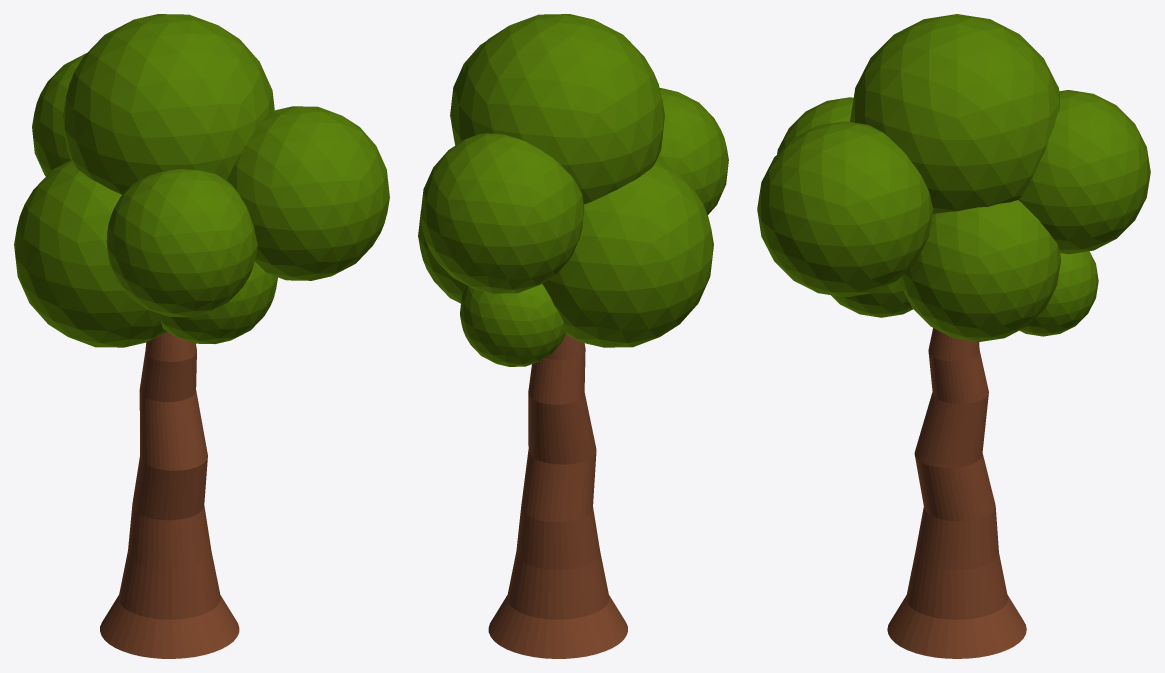
File: Tree_4.glb
3 views of the same model, side by side, from view 1: azimuth 30°, elevation 25°; view 2: azimuth 150°, elevation 25°; view 3: azimuth 270°, elevation 25° (orthographic).
Parts seen in each view (by area): view 1: Tree 4; view 2: Tree 4; view 3: Tree 4.
Boxes of the visible parts, x1,y1,x2,y2 form: Tree 4: [14, 14, 389, 658]; Tree 4: [418, 14, 728, 658]; Tree 4: [757, 14, 1150, 658].
Size of the model in its own units: 2.66 by 5.21 by 3.07.
